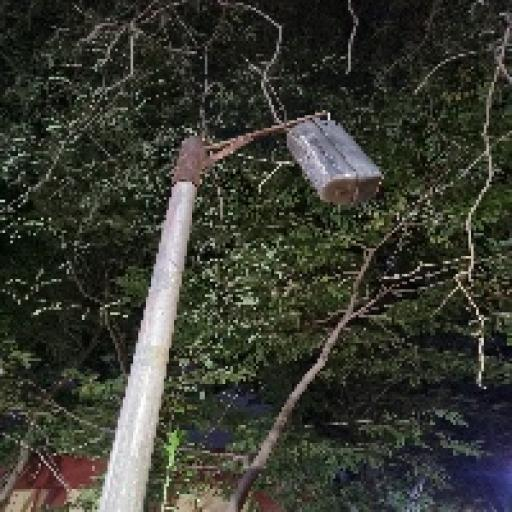Not Working: (273, 107, 395, 214)
